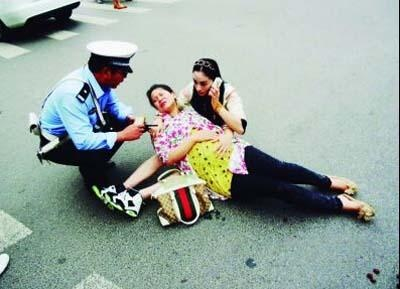falling: (125, 78, 388, 231)
